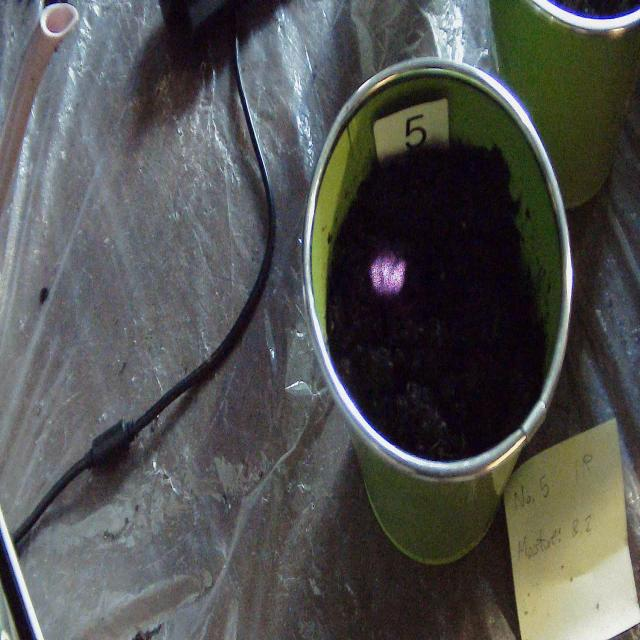soil-moisture-8.2: (371, 243, 408, 297)
